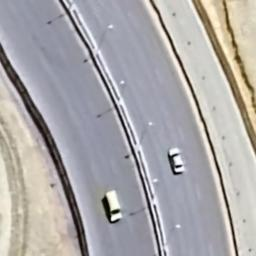sedan: (165, 142, 188, 177)
van: (100, 186, 125, 226)
